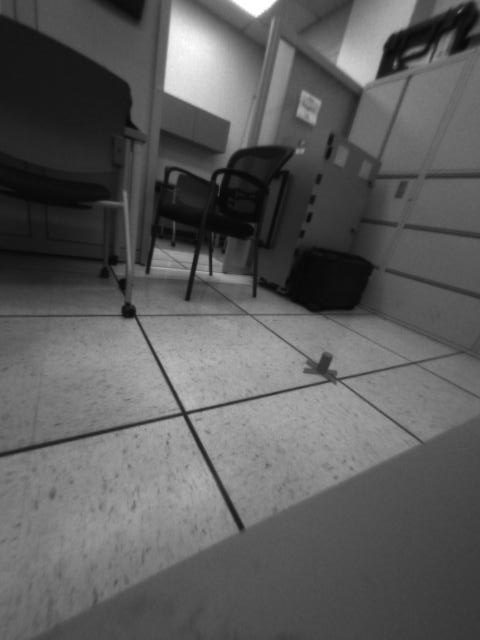X: (300, 351, 345, 386)
